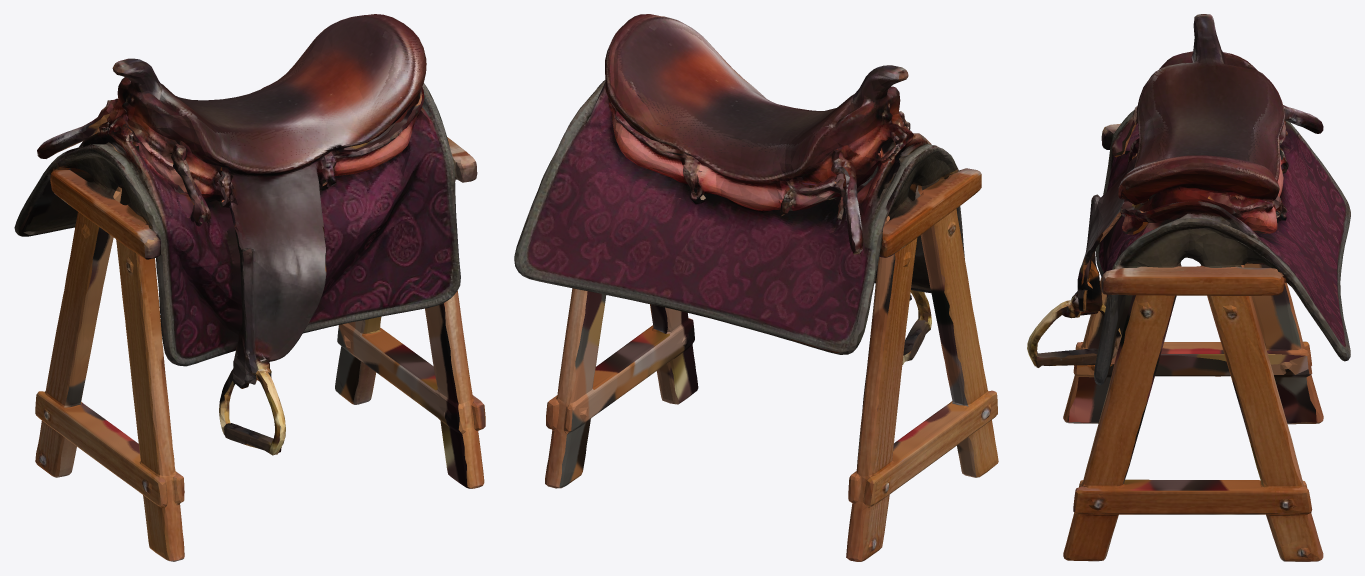
The model's file is traveler_env_coast_castle_unicorn_saddle_00001_.glb.
3 renders of one model, left to right at view 1: azimuth 30°, elevation 25°; view 2: azimuth 150°, elevation 25°; view 3: azimuth 270°, elevation 25°, orthographic. The views are drawn at different scales.
Parts seen in each view (by area): view 1: temp_mesh.ply; view 2: temp_mesh.ply; view 3: temp_mesh.ply.
Part boxes in pixels (x1,y1,x2,y2): temp_mesh.ply: (14,14,485,561); temp_mesh.ply: (514,14,998,561); temp_mesh.ply: (1027,14,1350,561).
Bounding box in the file's own units: 1.61 × 1.97 × 1.39.
Materials: 1 (1 with a texture image).
